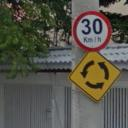Rotatoria: (67, 50, 123, 103)
speed_limit_30: (74, 10, 112, 52)
